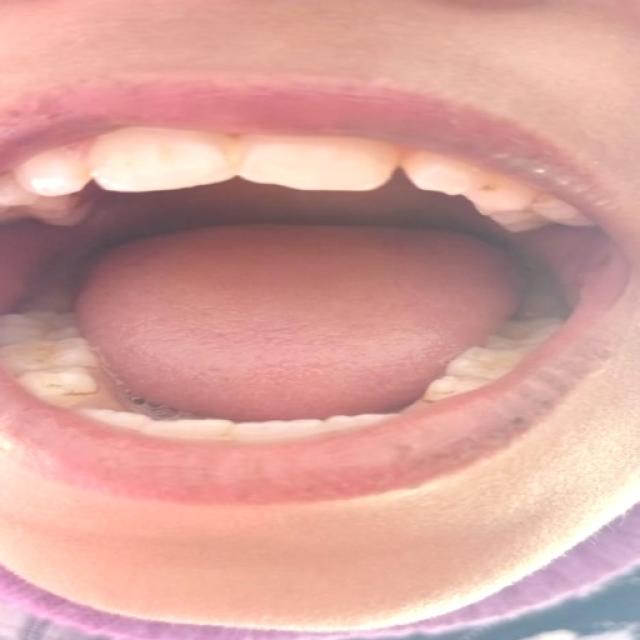processing_area: (3, 167, 617, 422)
